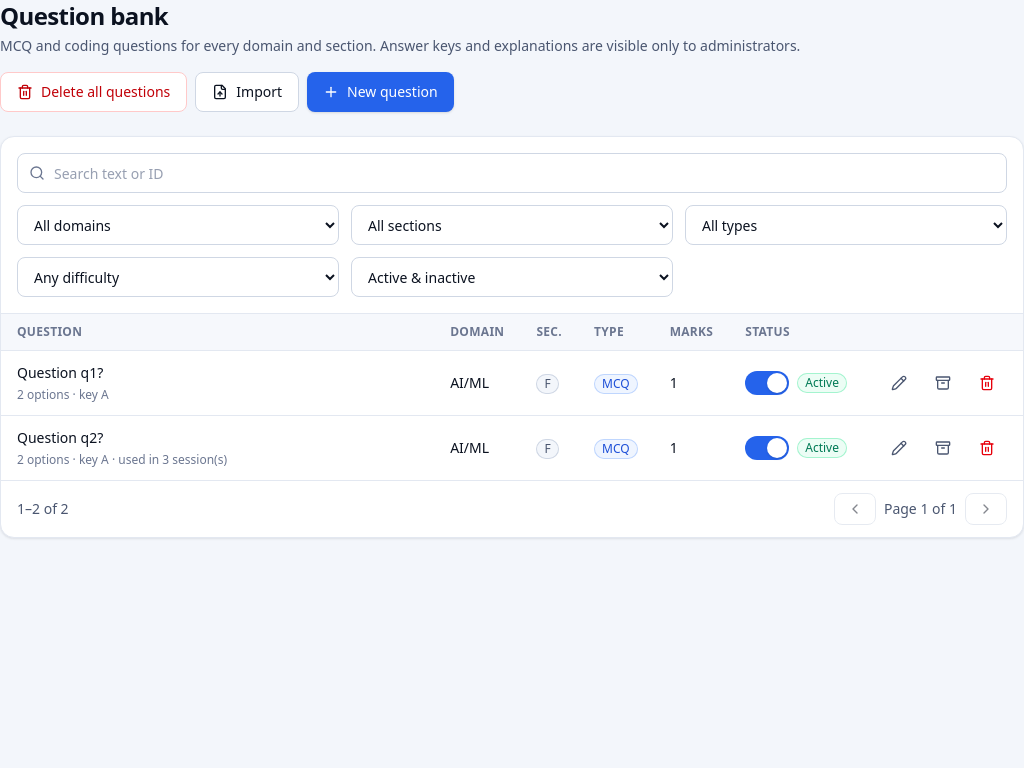
Test: QuestionBankPage › keeps the delete button enabled when the preview lacks optional counts (no NaN)
This screenshot has width=1024, height=768.
Click the button "Delete all questions": (94, 92) [0,72,187,112]
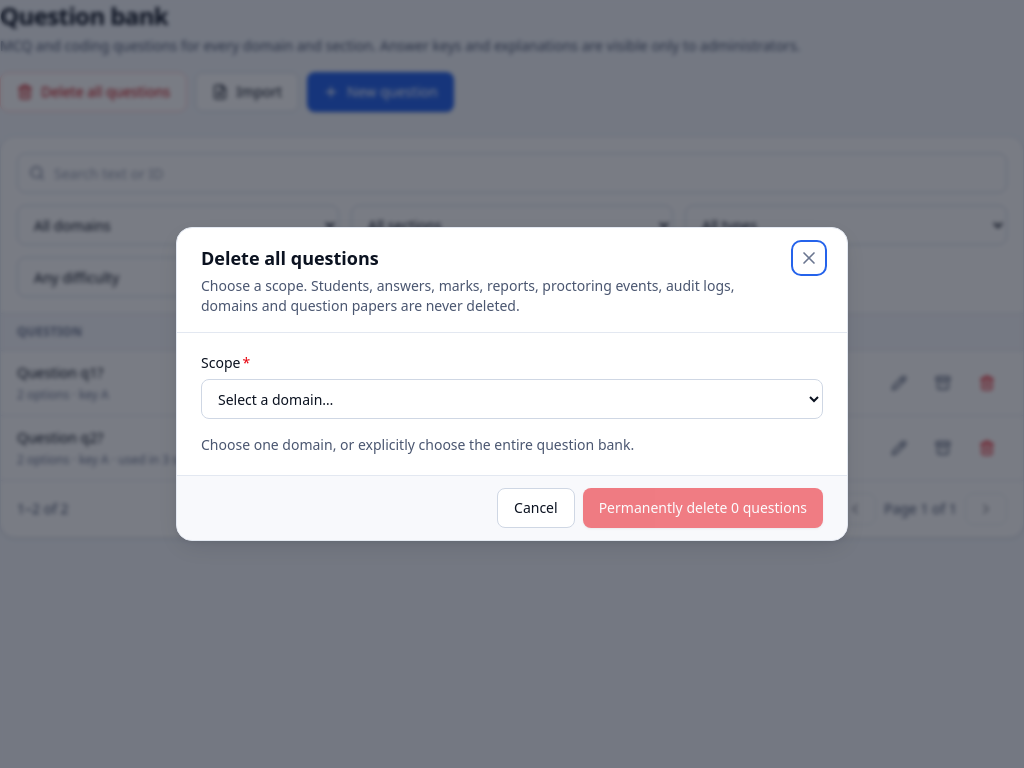
Select "AI/ML" in the dropdown labelled "Scope*": (512, 399) [201,379,823,419]
(page scrolled)
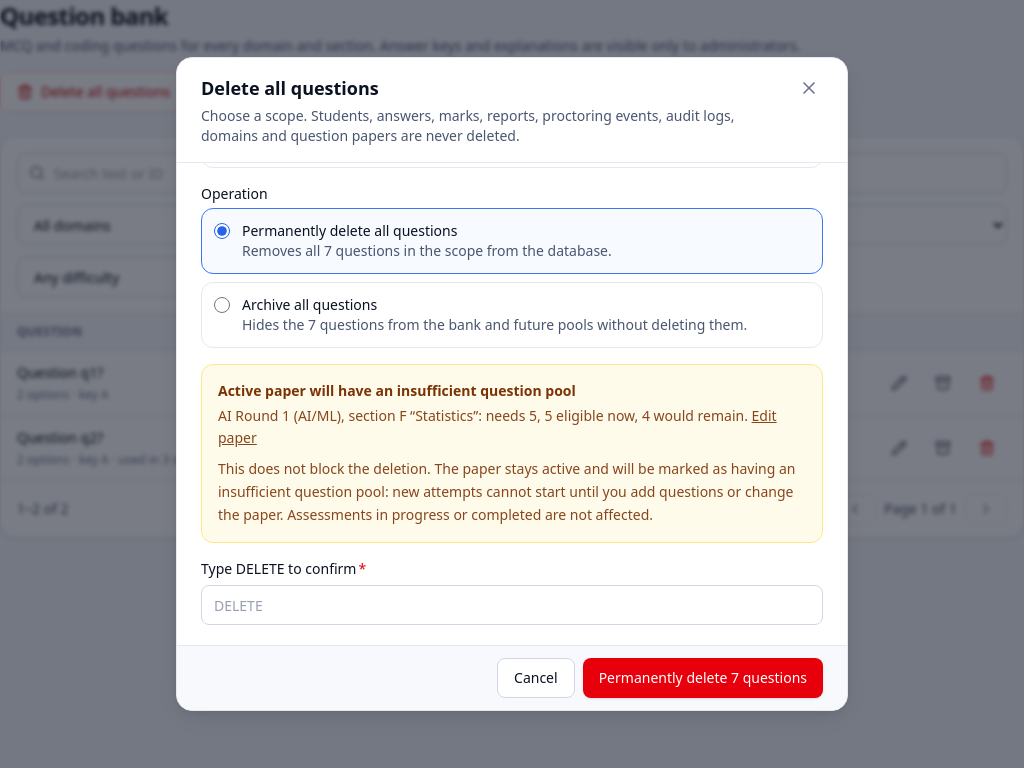
Now the button "Permanently delete 7 questions" is enabled, box [583,658,823,698]
Now the field labelled "Type DELETE to confirm*" is shown, box [201,585,823,625]
